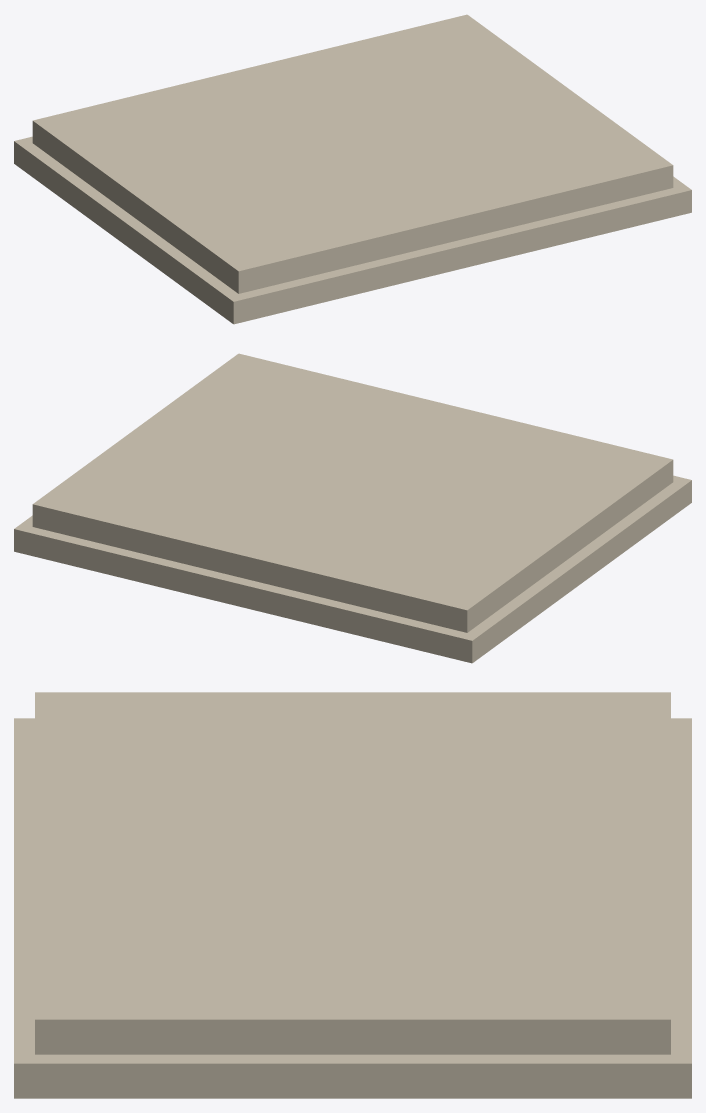
Rendered from chavin_edificio_a_foundation_lod0.glb.
3 renders of one model, top to bottom at view 1: azimuth 30°, elevation 25°; view 2: azimuth 150°, elevation 25°; view 3: azimuth 270°, elevation 25°, orthographic. The views are drawn at different scales.
Visible parts, largest first — view 1: chavin_edificio_a_foundation; view 2: chavin_edificio_a_foundation; view 3: chavin_edificio_a_foundation.
Boxes of the visible parts, x1=… form: chavin_edificio_a_foundation: x1=14, y1=14, x2=691, y2=324; chavin_edificio_a_foundation: x1=14, y1=353, x2=691, y2=663; chavin_edificio_a_foundation: x1=14, y1=692, x2=691, y2=1098.
Bounding box in the file's own units: 106 × 9.99 × 87.91.
